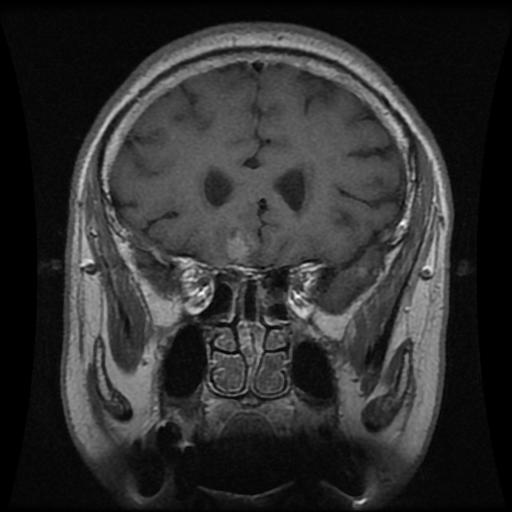Pituirity_tumour: (224, 228, 251, 264)
